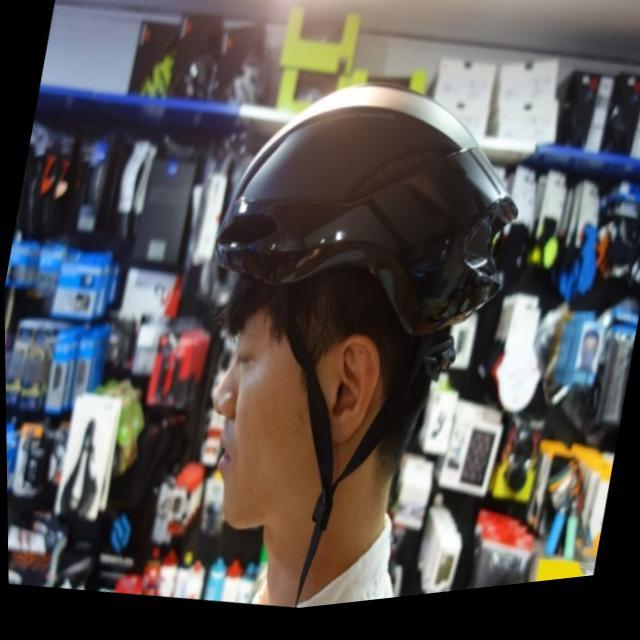Helmet: (172, 66, 520, 545)
